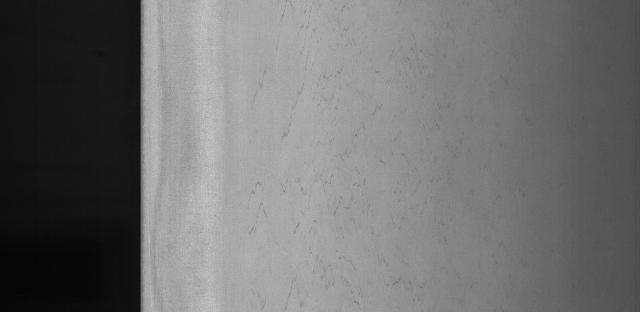silk_spot: (231, 14, 435, 285)
